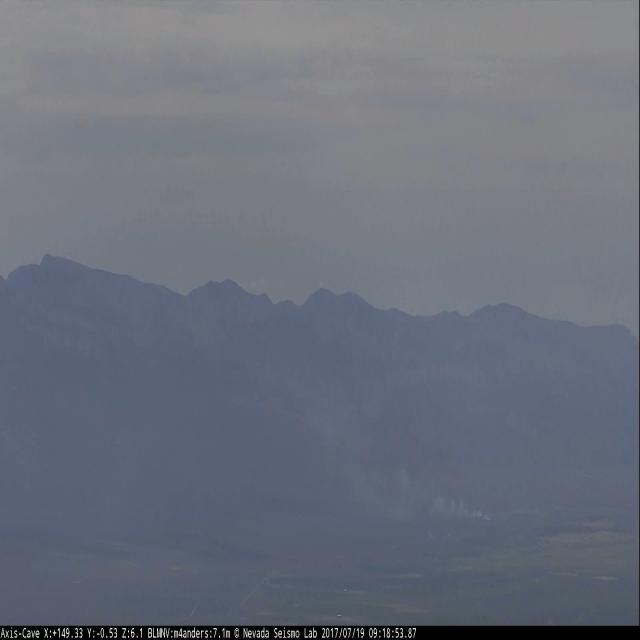smoke: (401, 468, 495, 529)
